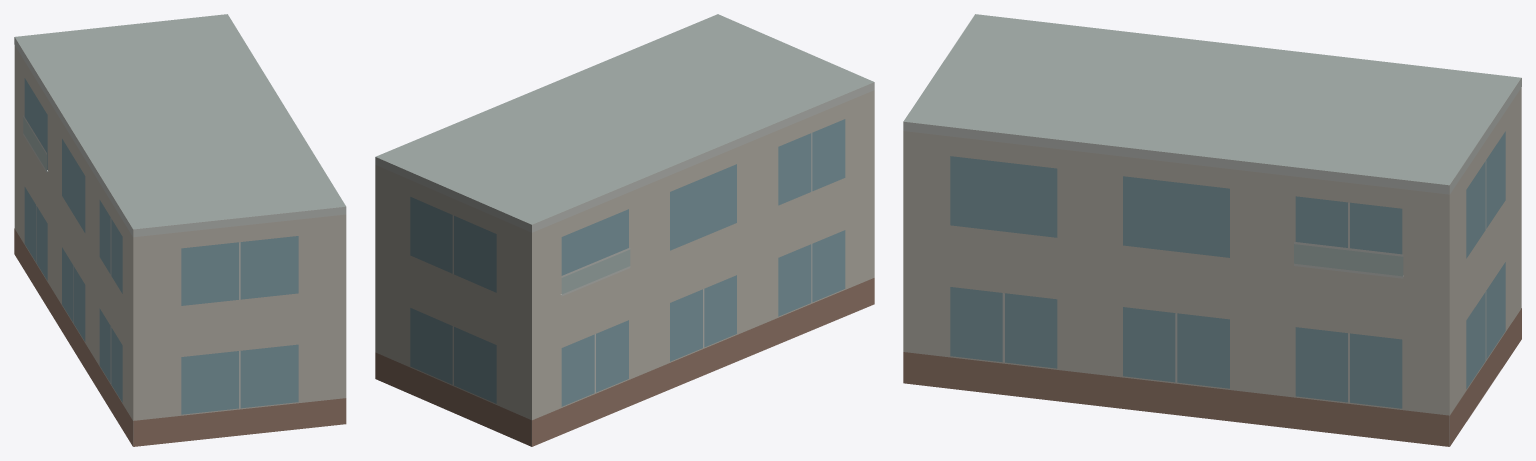
Rendered from survey-upis-32955864.glb.
3 views of the same model, side by side, from view 1: azimuth 30°, elevation 25°; view 2: azimuth 150°, elevation 25°; view 3: azimuth 270°, elevation 25° (orthographic). The views are drawn at different scales.
Visible parts, largest first — view 1: survey-upis-32955864.tmp; view 2: survey-upis-32955864.tmp; view 3: survey-upis-32955864.tmp.
Part boxes in pixels (box(x1,y1,x2,y2)): survey-upis-32955864.tmp: box(14, 14, 346, 446); survey-upis-32955864.tmp: box(375, 14, 874, 446); survey-upis-32955864.tmp: box(903, 14, 1521, 446).
Bounding box in the file's own units: 9.56 × 6.8 × 14.58.
